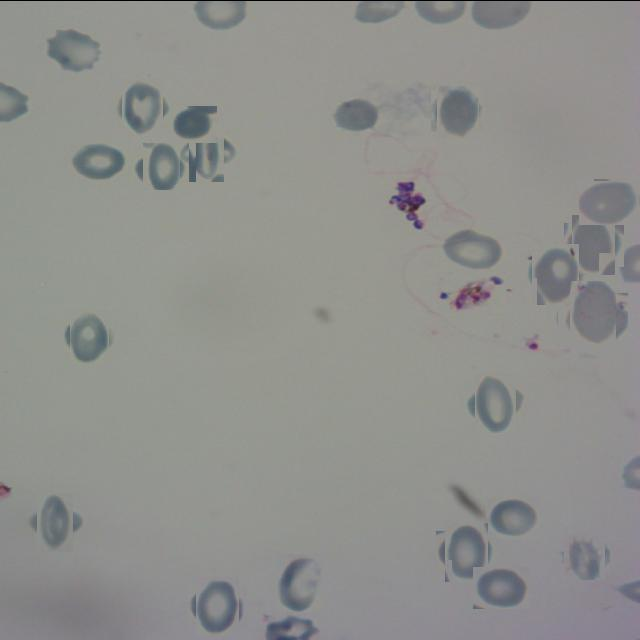leukocyte: (564, 286, 622, 344), (440, 226, 505, 272), (276, 552, 326, 611), (579, 177, 640, 224), (528, 247, 582, 300), (42, 28, 104, 74), (192, 580, 244, 632), (568, 218, 620, 270), (470, 377, 522, 429), (440, 526, 492, 577), (118, 80, 168, 130), (473, 566, 530, 608), (70, 140, 129, 180), (65, 313, 114, 361), (32, 498, 80, 546), (434, 86, 482, 134), (183, 128, 231, 176), (486, 497, 540, 538), (330, 95, 384, 132), (140, 145, 183, 187), (173, 104, 218, 142), (566, 536, 608, 576)
ring: (436, 272, 506, 314), (390, 177, 428, 233)
